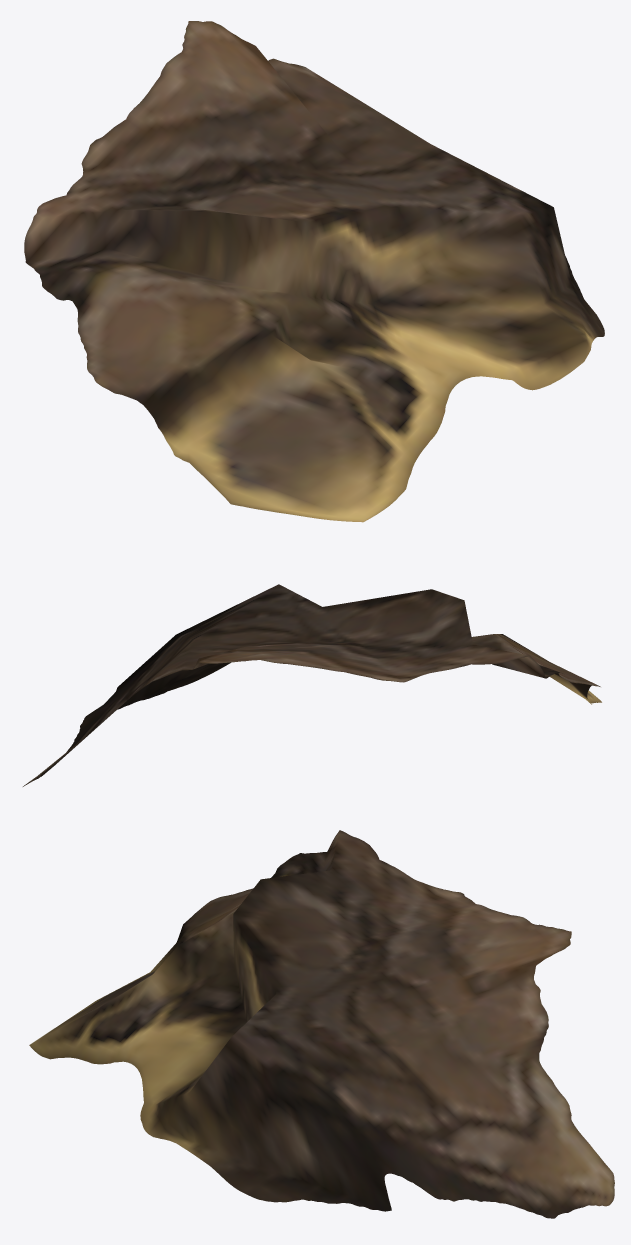
The model's file is rock_3_06.FBX.
3 renders of one model, top to bottom at view 1: azimuth 30°, elevation 25°; view 2: azimuth 150°, elevation 25°; view 3: azimuth 270°, elevation 25°, orthographic. The views are drawn at different scales.
Visible parts, largest first — view 1: rock_3_06; view 2: rock_3_06; view 3: rock_3_06.
Boxes of the visible parts, <box> form: rock_3_06: <box>24,21,604,522</box>; rock_3_06: <box>23,584,601,786</box>; rock_3_06: <box>29,830,614,1218</box>.
Size of the model in its own units: 241 by 93.13 by 257.
